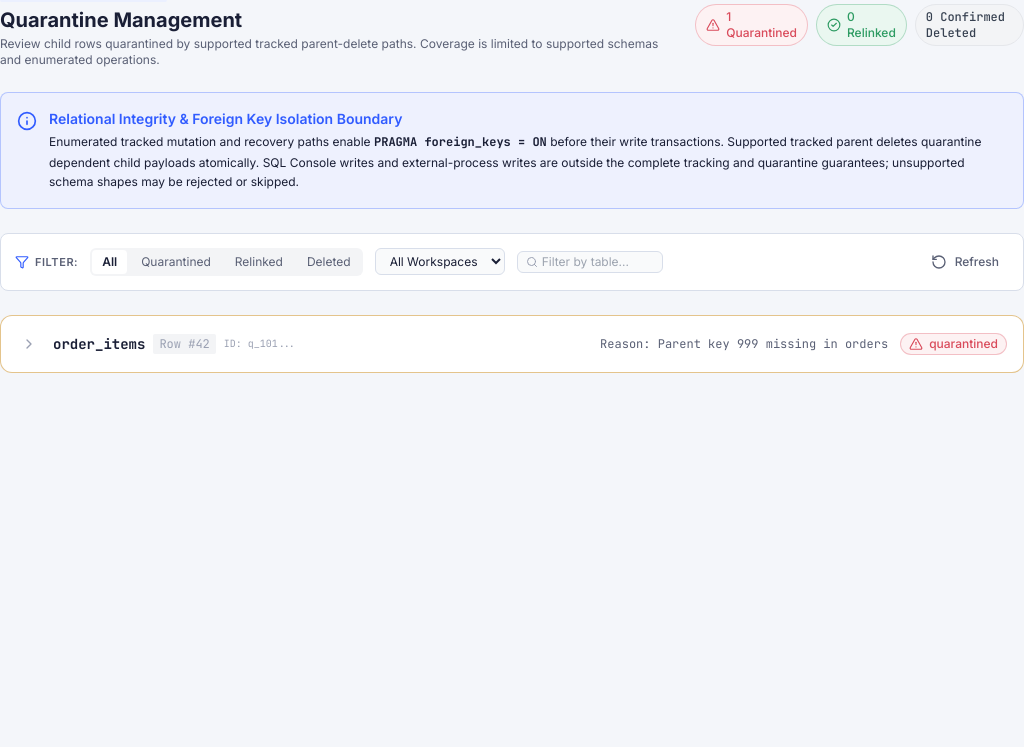
Test: Phase 7 Integration Tests › Quarantine View Tests › shows success message only when backend confirms matching relink status
The width and height of the screenshot is (1024, 747).
Click the text "order_items" at (99,344), box [53,334,145,354]
(page scrolled)
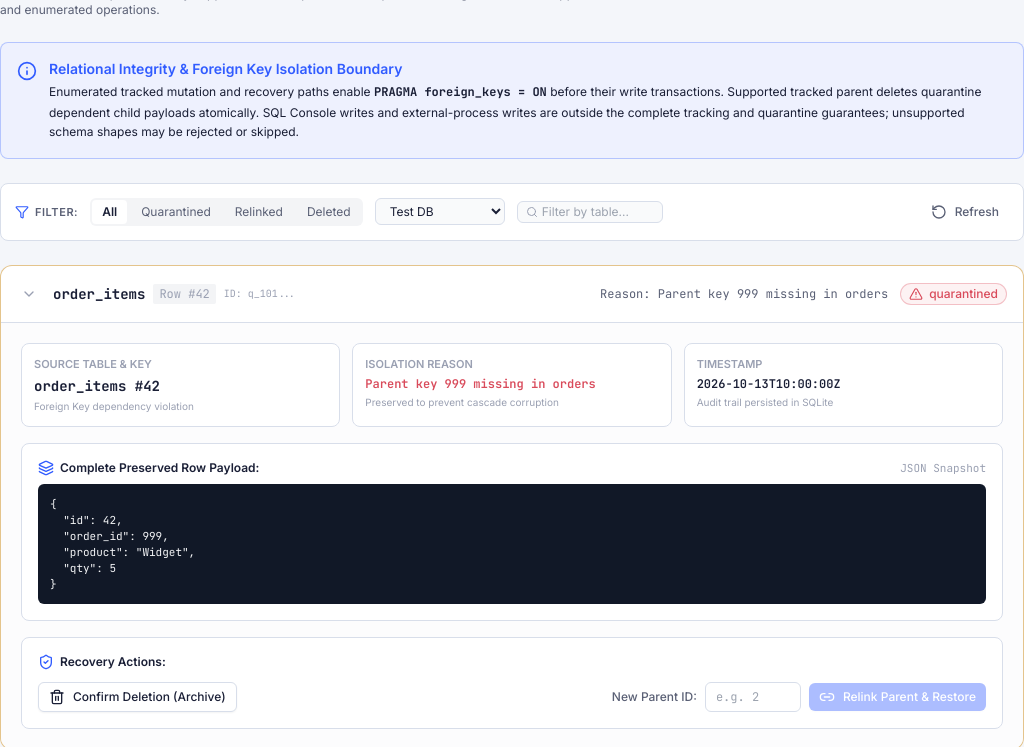
Check: the field with placeholder "e.g. 2" is shown
Type "2" into the field with placeholder "e.g. 2" at (753,697), box [705,682,801,712]
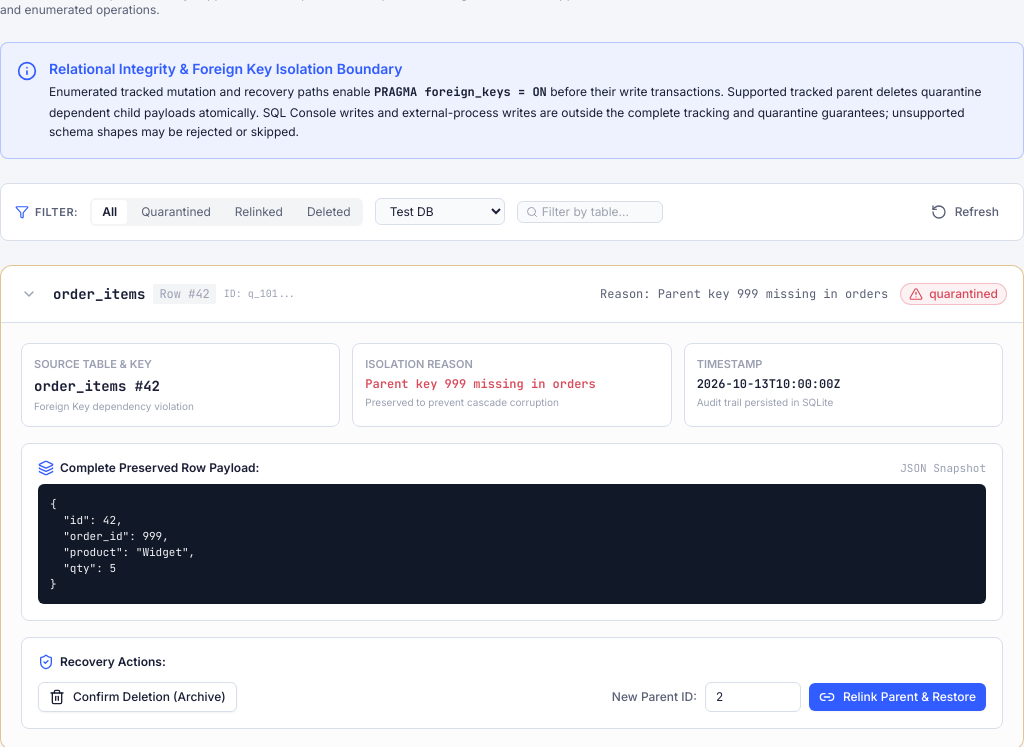
Click the button "Relink Parent & Restore" at (897,697), box [809,683,986,711]
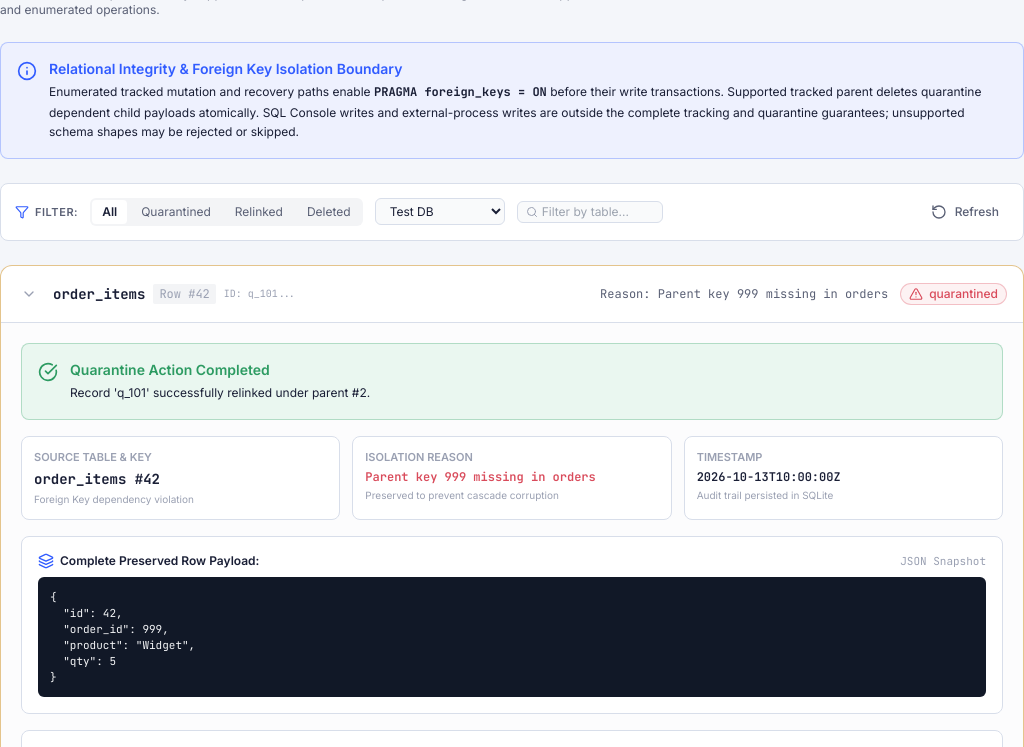
Check: the text "Record 'q_101' successfully relinked under parent #2." is shown, box [70,385,370,400]
